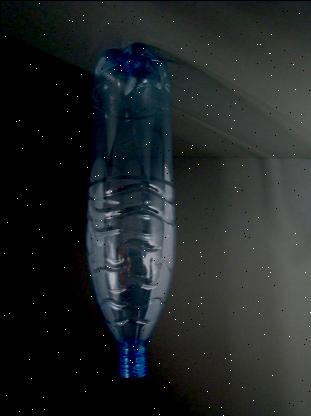Plastic Bottle: (76, 35, 184, 391)
